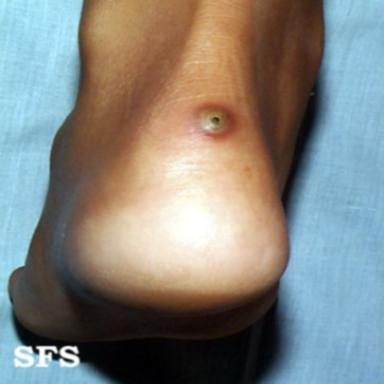Tungiasis: (195, 102, 236, 139)
